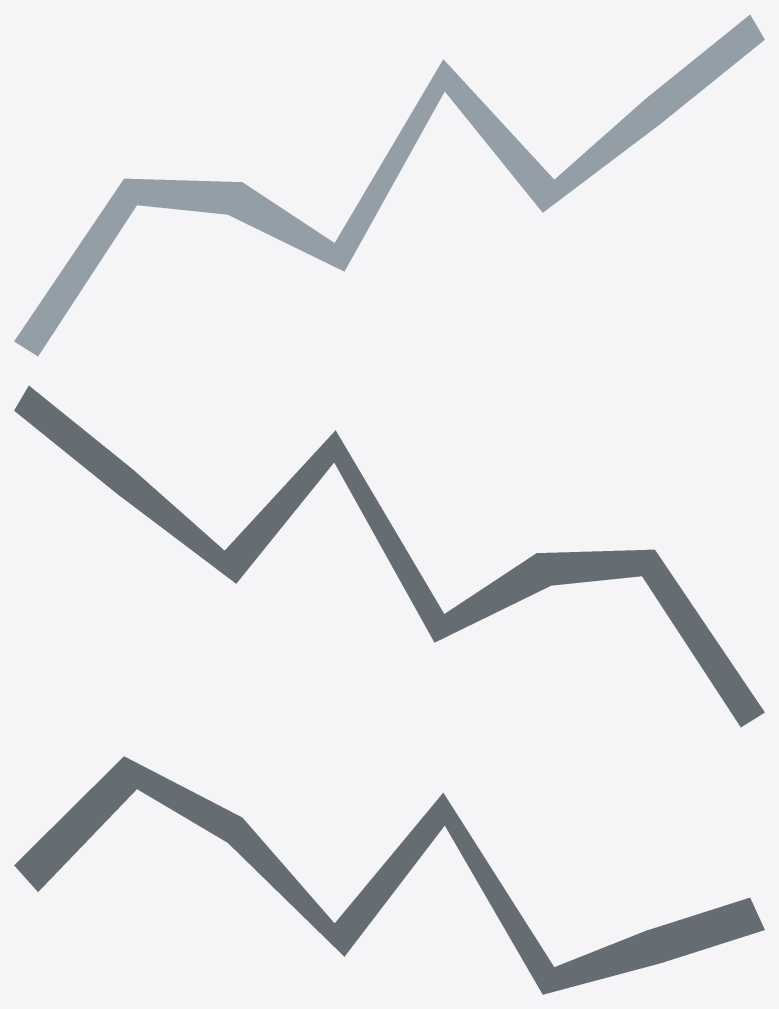
File: ElementalGround_Electro_GroundArc61.fbx
3 renders of one model, top to bottom at view 1: azimuth 30°, elevation 25°; view 2: azimuth 150°, elevation 25°; view 3: azimuth 330°, elevation 25°, orthographic.
Visible parts, largest first — view 1: PART_GroundArc61; view 2: PART_GroundArc61; view 3: PART_GroundArc61.
Part boxes in pixels (x1,y1,x2,y2): PART_GroundArc61: (14,14,764,356); PART_GroundArc61: (14,385,764,727); PART_GroundArc61: (14,756,764,994).
Bounding box in the file's own units: 71.86 × 18.16 × 2.96e-06.
